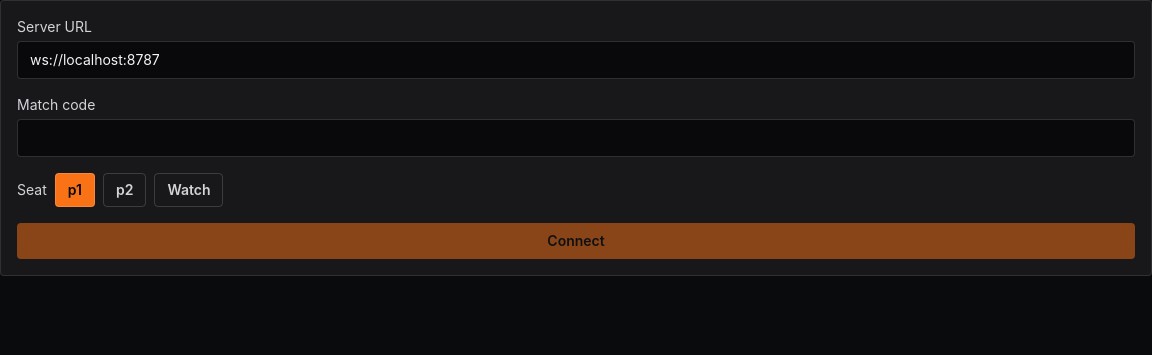
it: @opencards/app OnlinePlay › shows the error state and the form again after an error message
In the field with test id "online-match-code": x=576, y=138 [17,119,1135,157], type "room-1"
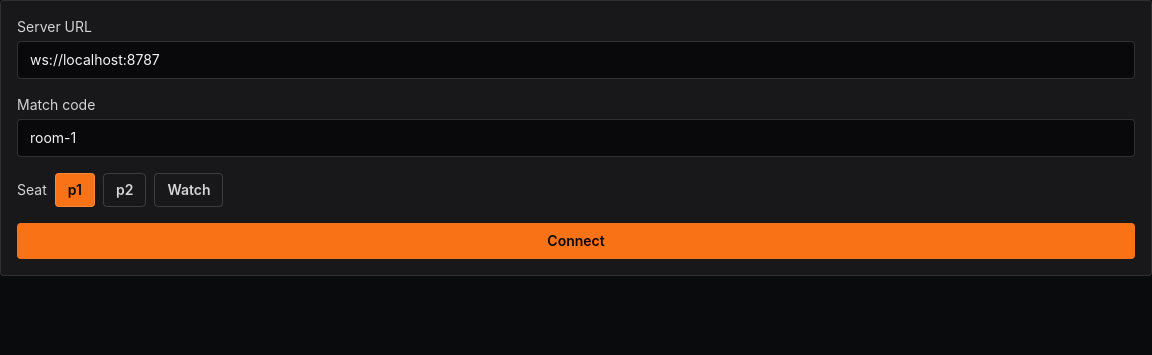
Click the button with test id "online-connect": x=576, y=241 [17,223,1135,259]
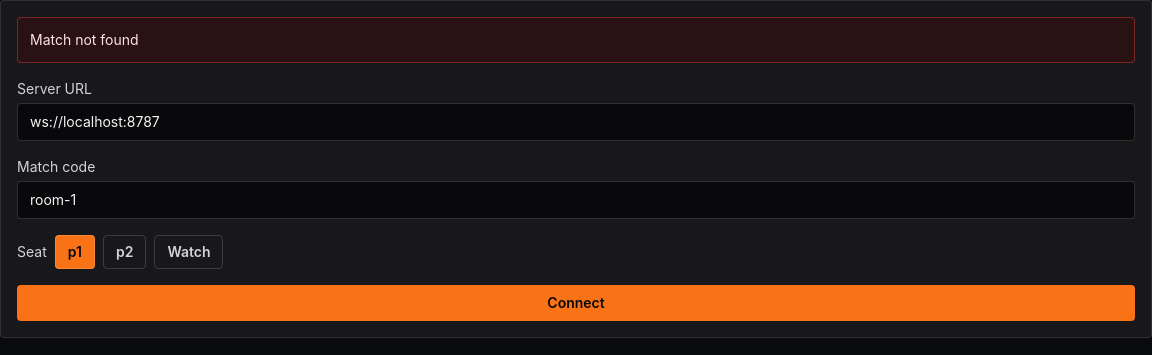
Expected: the field with test id "online-server-url" is shown, [17,103,1135,141]
Expected: the text with test id "online-error" reads "Match not found", [30,31,139,48]
